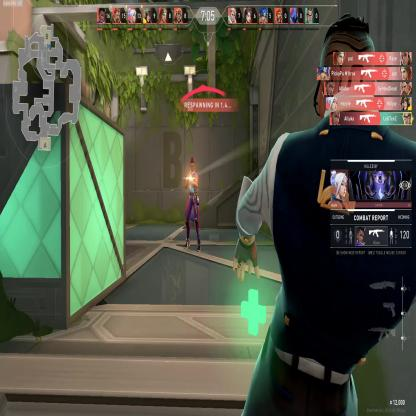enemy: (183, 154, 202, 254)
